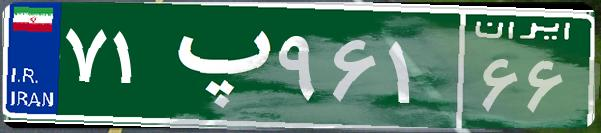1: (385, 28, 445, 110), (110, 28, 158, 105)
6: (330, 28, 385, 110), (475, 38, 525, 113), (525, 38, 570, 115)
7: (57, 26, 110, 107)
9: (273, 28, 330, 110)
پ: (158, 15, 273, 115)
